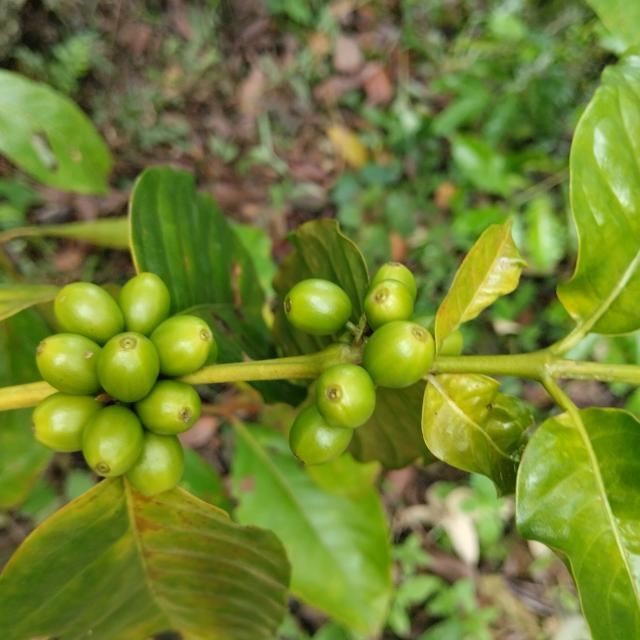green: (363, 321, 436, 389), (81, 405, 143, 478), (96, 332, 159, 403), (53, 282, 124, 345), (31, 392, 103, 452), (35, 334, 100, 395), (284, 278, 352, 336), (289, 405, 353, 466), (149, 315, 213, 376), (316, 364, 376, 429), (126, 430, 184, 496), (134, 380, 201, 436), (117, 272, 170, 336), (364, 279, 414, 330), (370, 261, 418, 300), (439, 330, 464, 356)
